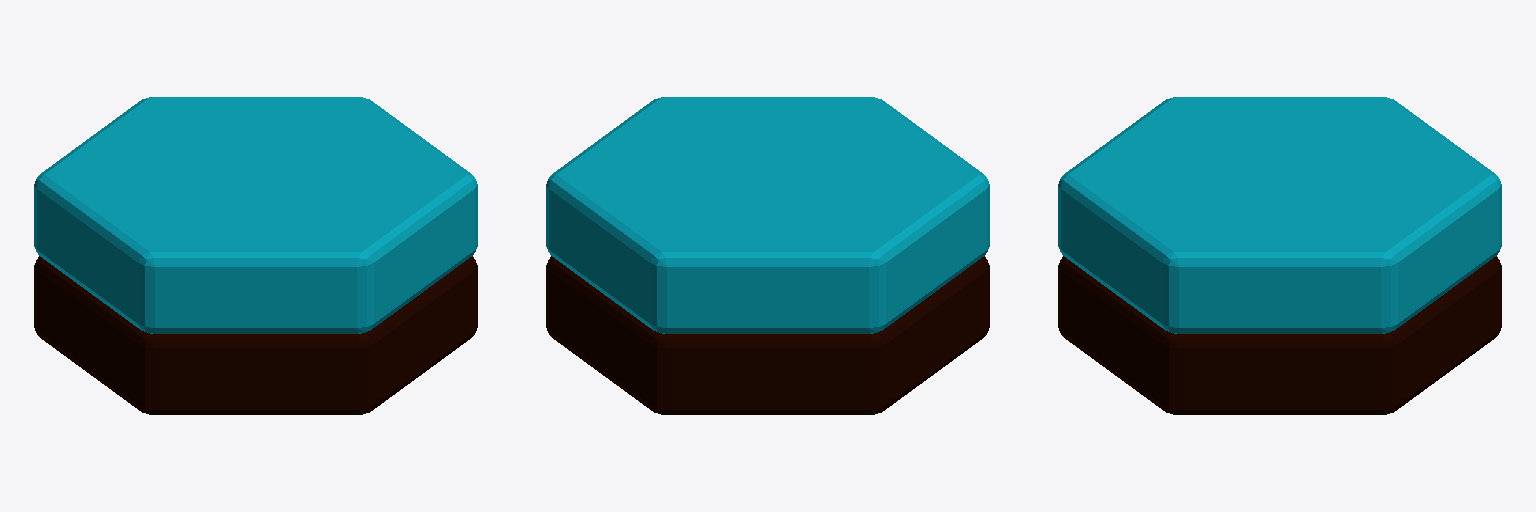
File: ground_water.obj
3 renders of one model, left to right at view 1: azimuth 30°, elevation 25°; view 2: azimuth 150°, elevation 25°; view 3: azimuth 270°, elevation 25°, orthographic.
Visible parts, largest first — view 1: ground_water; view 2: ground_water; view 3: ground_water.
Boxes of the visible parts, box(x1,y1,x2,y2) form: ground_water: box(34, 97, 477, 414); ground_water: box(546, 97, 989, 414); ground_water: box(1058, 97, 1501, 414).
Size of the model in its own units: 6.93 by 3.2 by 7.9.